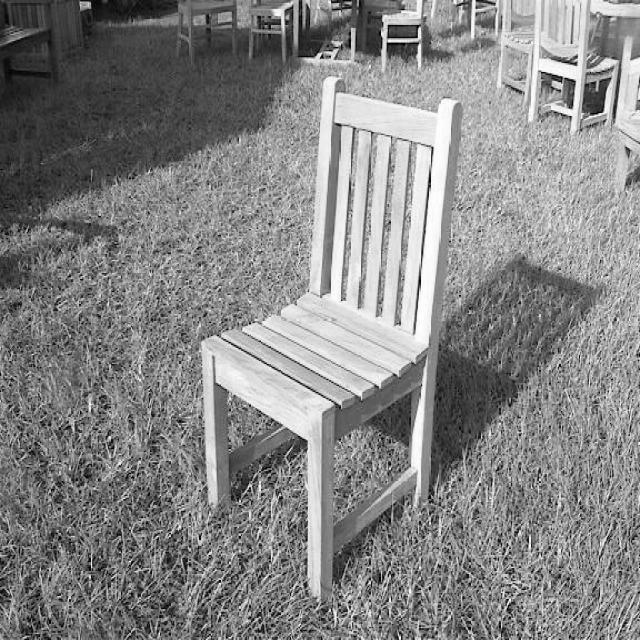chair: (198, 76, 461, 598)
